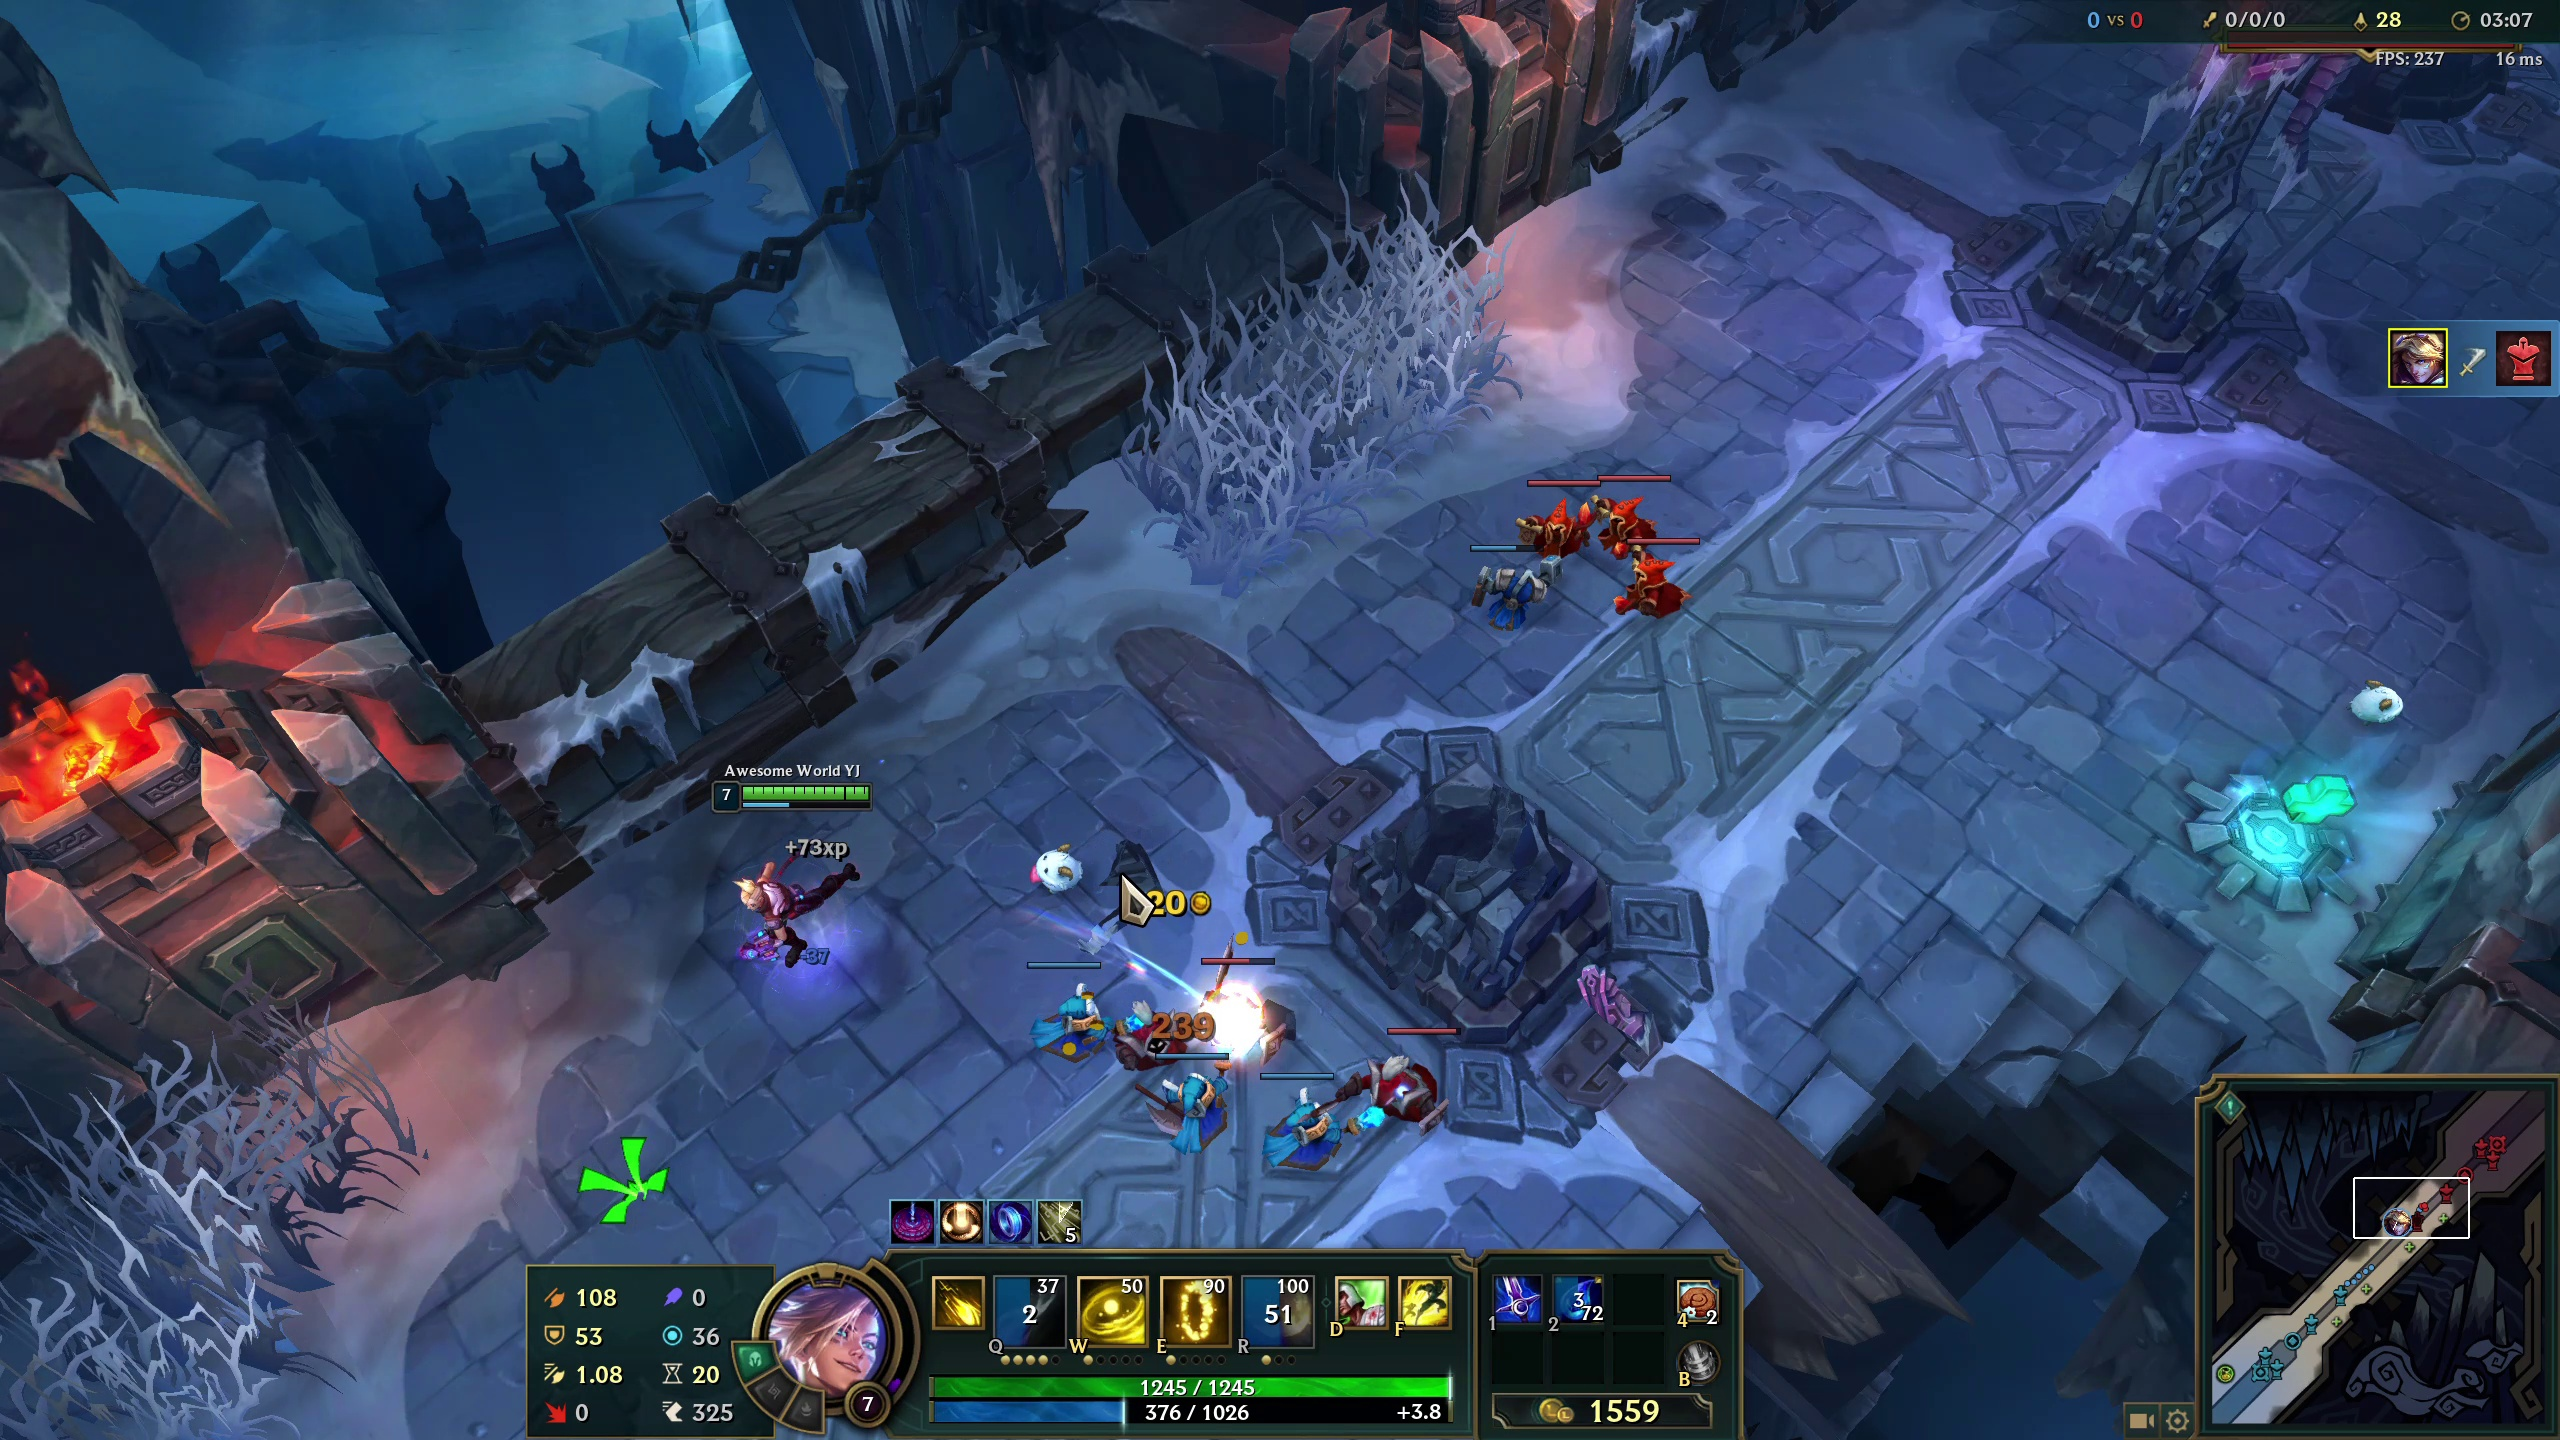EZ: (731, 767, 840, 1002)
EnemyMinion: (1524, 454, 1609, 547), (1589, 452, 1674, 545), (1375, 1023, 1459, 1116), (1206, 951, 1291, 1044), (1623, 517, 1707, 608)
Glass: (2, 1074, 329, 1429), (1190, 297, 1451, 506)
MyMinion: (1016, 964, 1118, 1051), (1138, 1046, 1240, 1134), (1247, 1078, 1349, 1166), (1465, 542, 1567, 628)
Turret: (2068, 18, 2356, 434)
